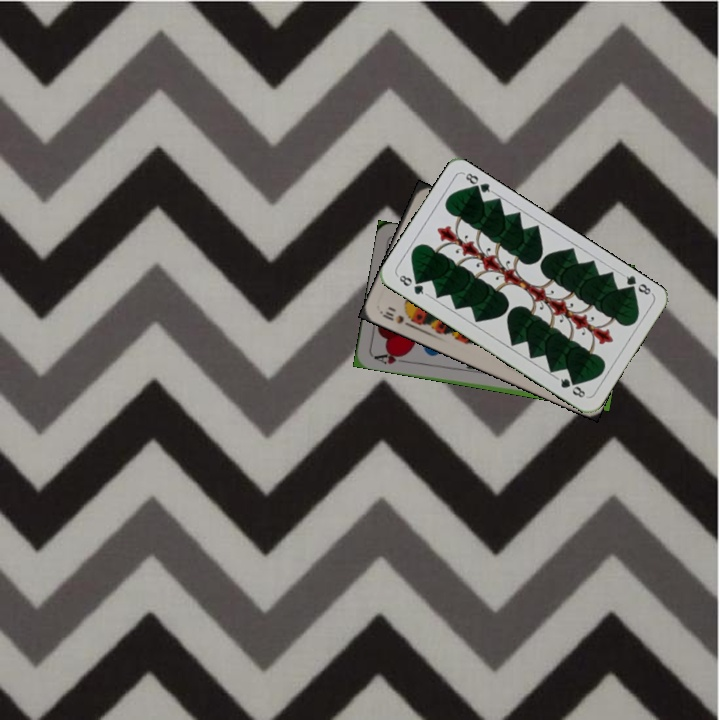G8: (618, 270, 655, 298), (393, 271, 430, 298)
HA: (370, 348, 410, 367)
S10: (377, 307, 415, 330)
